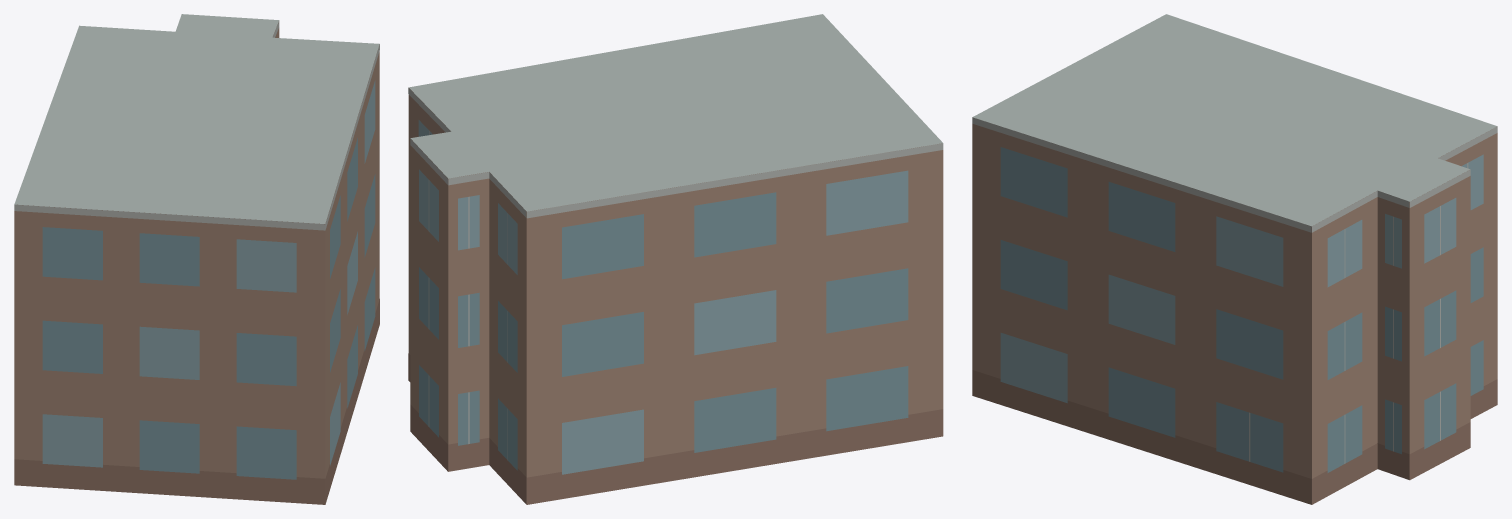
File: survey-upis-32885563.glb
The picture shows the model from 3 angles, left to right: view 1: azimuth 30°, elevation 25°; view 2: azimuth 150°, elevation 25°; view 3: azimuth 270°, elevation 25°; orthographic projection. The views are drawn at different scales.
Visible parts, largest first — view 1: survey-upis-32885563.tmp; view 2: survey-upis-32885563.tmp; view 3: survey-upis-32885563.tmp.
Part boxes in pixels (x1=…): survey-upis-32885563.tmp: x1=14, y1=14, x2=379, y2=504; survey-upis-32885563.tmp: x1=408, y1=14, x2=943, y2=504; survey-upis-32885563.tmp: x1=972, y1=14, x2=1497, y2=504.
Size of the model in its own units: 17.35 by 10.6 by 18.13.
